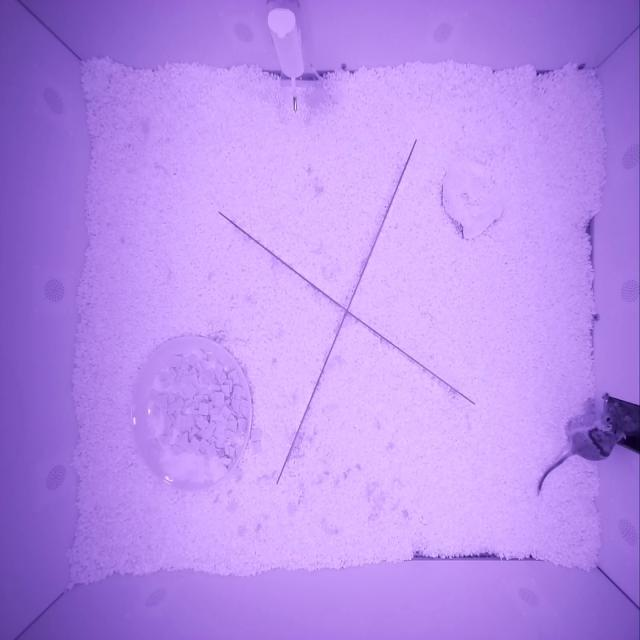adult_front: (570, 412, 626, 461)
